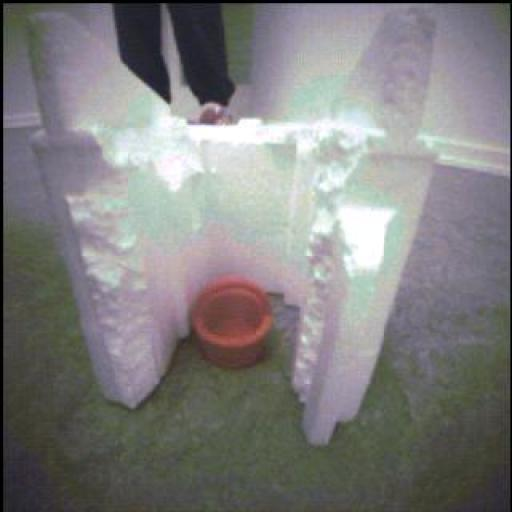Bucket: (193, 276, 273, 369)
